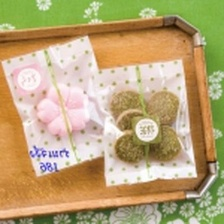snack: (0, 30, 124, 181), (89, 52, 202, 191)
